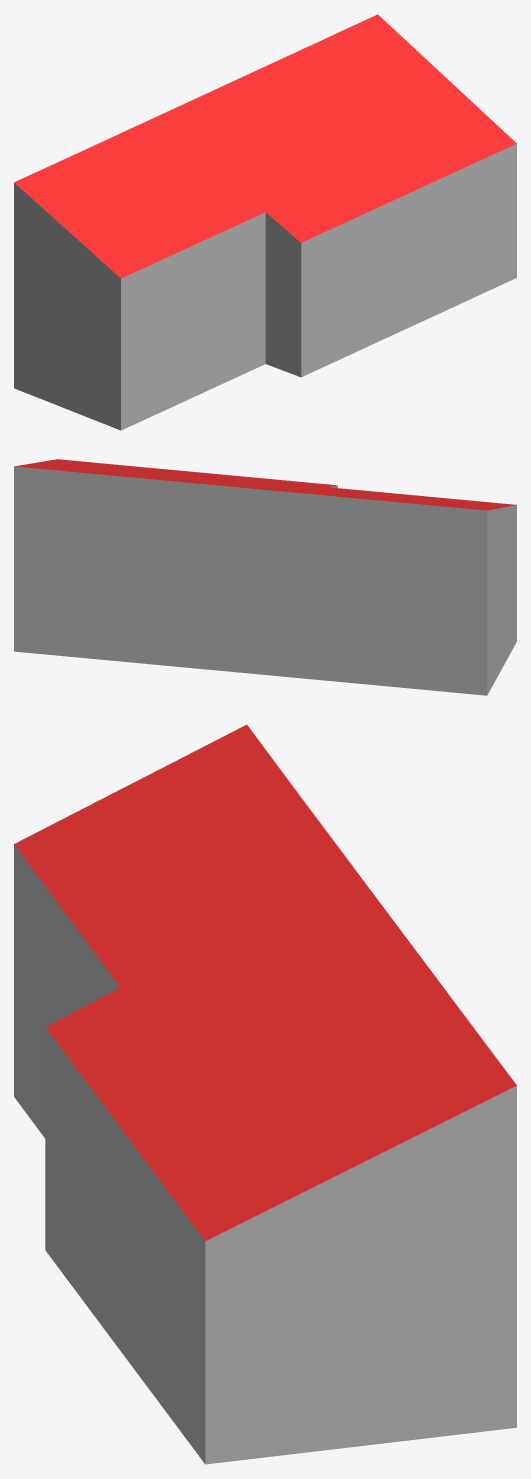
Rendered from DEBY_LOD2_4730229.dae.
3 renders of one model, top to bottom at view 1: azimuth 30°, elevation 25°; view 2: azimuth 150°, elevation 25°; view 3: azimuth 270°, elevation 25°, orthographic. The views are drawn at different scales.
Bounding box in the file's own units: 8.67 × 4.64 × 3.48.
